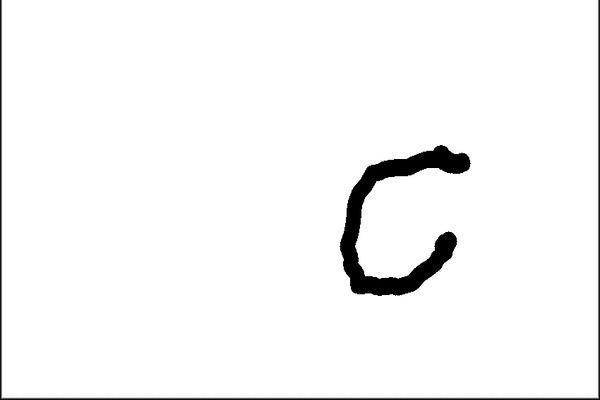C: (334, 139, 474, 302)
